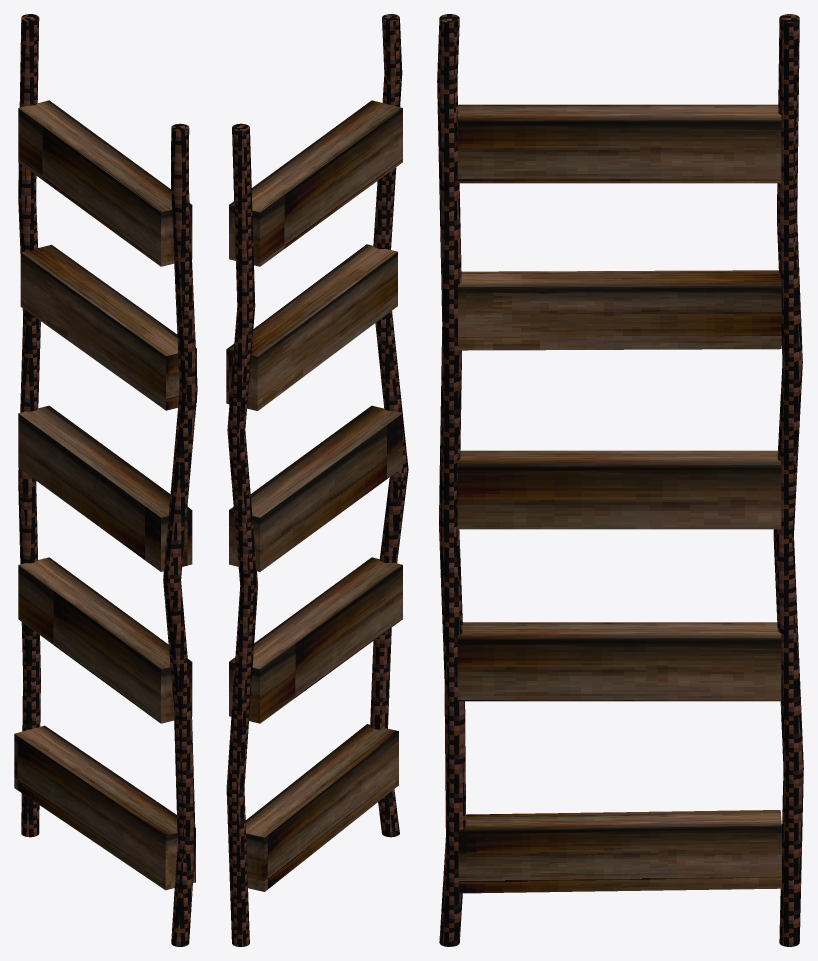
The model's file is ladder.glb.
The picture shows the model from 3 angles, left to right: view 1: azimuth 30°, elevation 25°; view 2: azimuth 150°, elevation 25°; view 3: azimuth 270°, elevation 25°; orthographic projection. The views are drawn at different scales.
Visible parts, largest first — view 1: Cylinder.001, Cube.002, Cube.004, Cube.005, Cube.001, Cube.003, Cylinder; view 2: Cylinder, Cube.005, Cube.003, Cube.001, Cube.002, Cube.004, Cylinder.001; view 3: Cube.005, Cube.003, Cube.001, Cube.004, Cube.002, Cylinder, Cylinder.001.
Boxes of the visible parts, x1,y1,x2,y2 form: Cylinder.001: (163,123,197,946); Cube.002: (14,725,195,890); Cube.004: (20,244,196,410); Cube.005: (18,100,192,266); Cube.001: (18,557,192,723); Cube.003: (18,405,192,571); Cylinder: (18,14,40,837); Cylinder: (226,123,257,946); Cube.005: (229,100,402,266); Cube.003: (229,405,402,571); Cube.001: (229,557,402,723); Cube.002: (245,724,398,891); Cube.004: (226,244,397,410); Cylinder.001: (370,14,408,837); Cube.005: (457,104,781,183); Cube.003: (457,450,781,529); Cube.001: (457,622,781,701); Cube.004: (458,270,781,350); Cube.002: (458,810,781,893); Cylinder: (773,14,803,946); Cylinder.001: (437,14,466,946).
Bounding box in the file's own units: 0.0389 × 0.75 × 0.2697.
2 materials, 2 textured.
